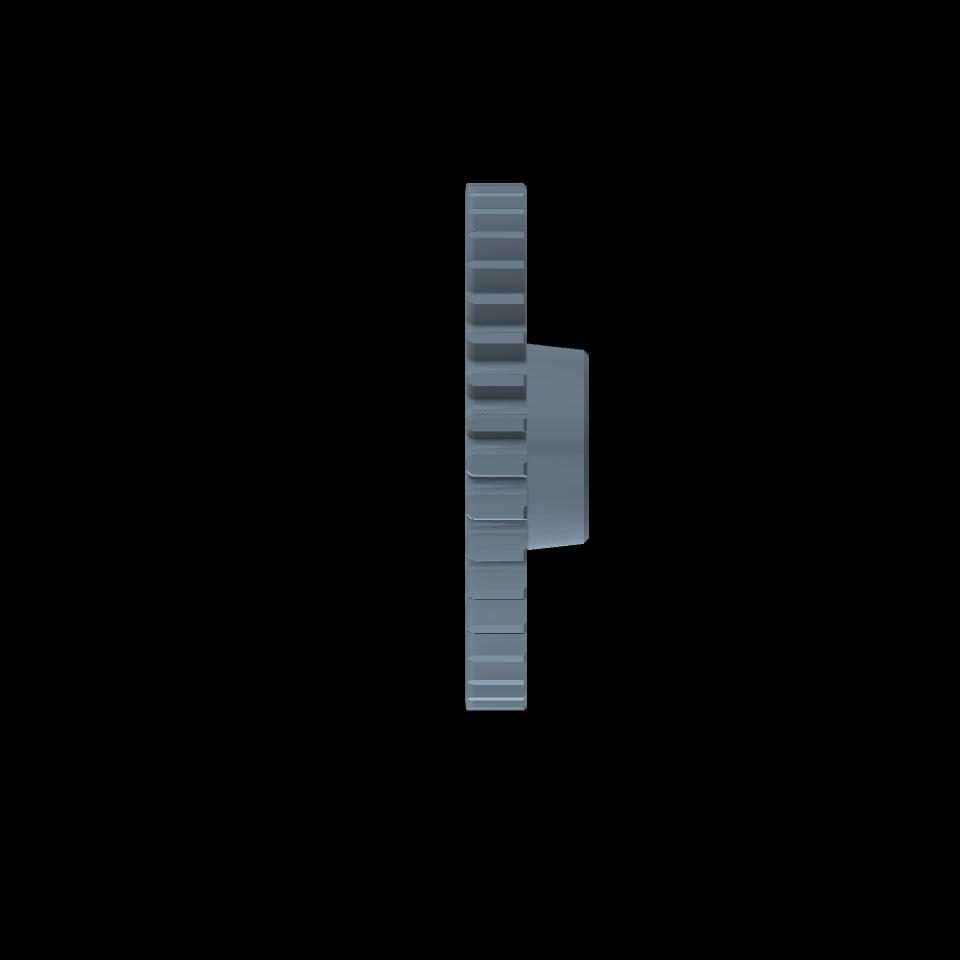Straight: (472, 183, 523, 708)
